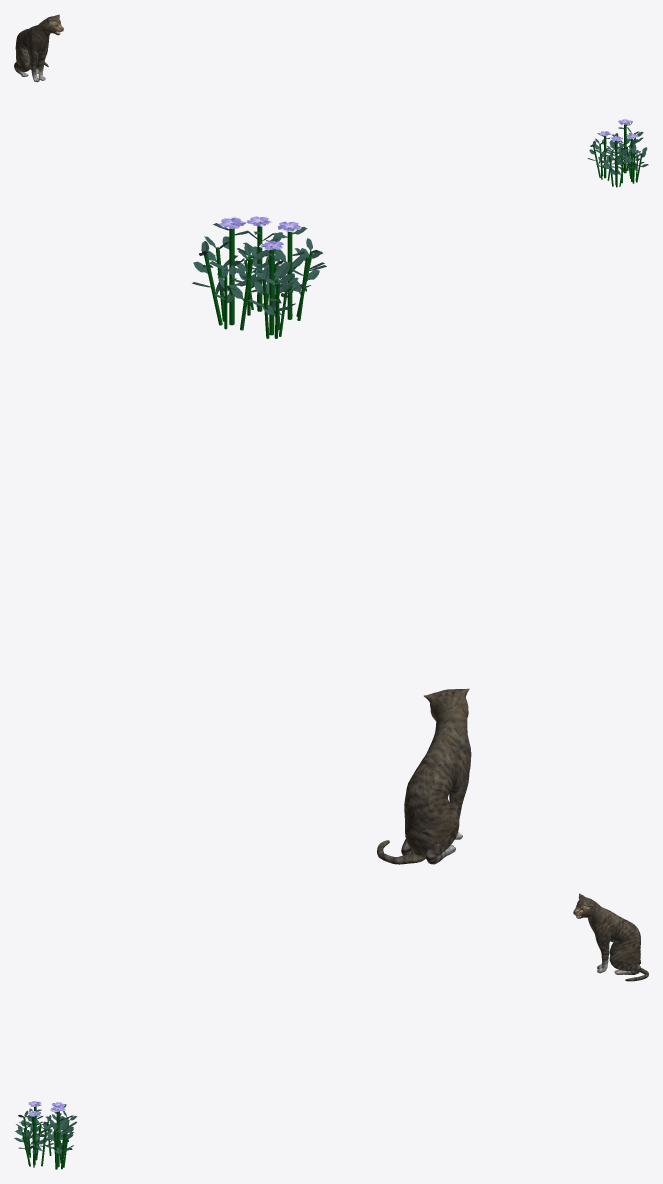
The model's file is cat.obj.
The picture shows the model from 3 angles, top to bottom: view 1: azimuth 30°, elevation 25°; view 2: azimuth 150°, elevation 25°; view 3: azimuth 270°, elevation 25°; orthographic projection. The views are drawn at different scales.
Visible parts, largest first — view 1: CatBody01; view 2: CatBody01; view 3: CatBody01.
Boxes of the visible parts, x1=… form: CatBody01: x1=14, y1=14, x2=63, y2=82; CatBody01: x1=377, y1=688, x2=471, y2=864; CatBody01: x1=573, y1=893, x2=648, y2=981.
Size of the model in its own units: 183 by 33.1 by 236.
